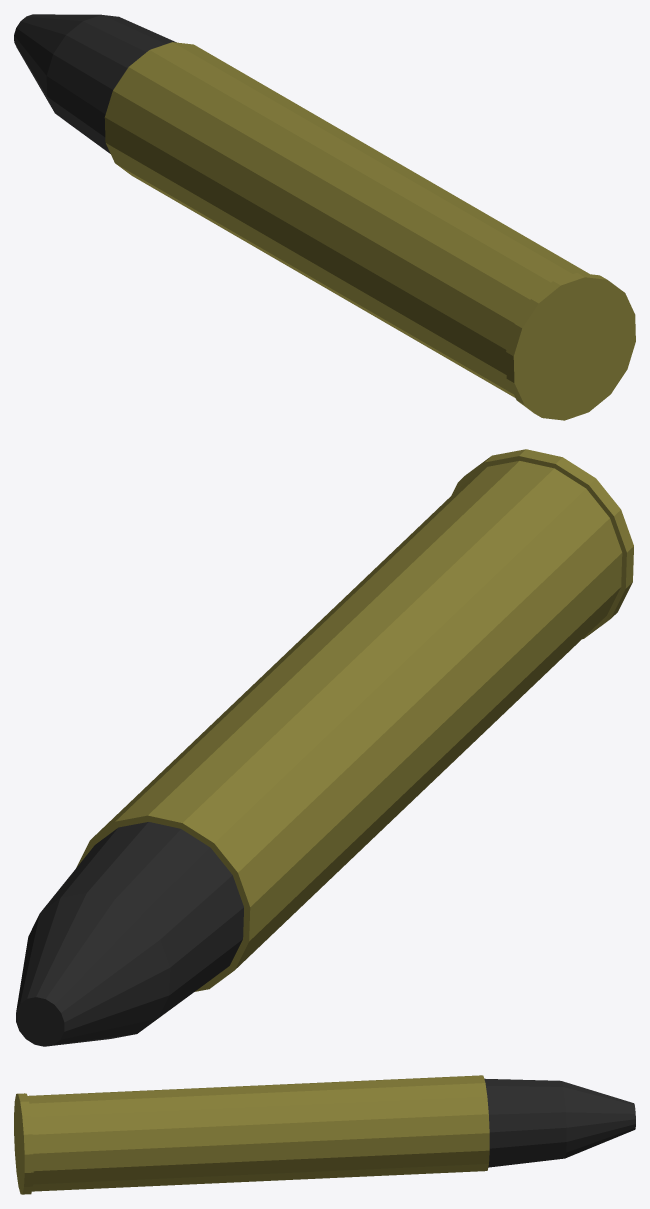
File: T-34_Bala.fbx
The picture shows the model from 3 angles, top to bottom: view 1: azimuth 30°, elevation 25°; view 2: azimuth 150°, elevation 25°; view 3: azimuth 270°, elevation 25°; orthographic projection. The views are drawn at different scales.
Parts seen in each view (by area): view 1: Circle.050; view 2: Circle.050; view 3: Circle.050.
Part boxes in pixels (left/top/right/bottom): Circle.050: left=14, top=14, right=635, bottom=420; Circle.050: left=16, top=449, right=633, bottom=1046; Circle.050: left=14, top=1075, right=635, bottom=1194.
Bounding box in the file's own units: 9.4 × 6.44 × 39.54.
